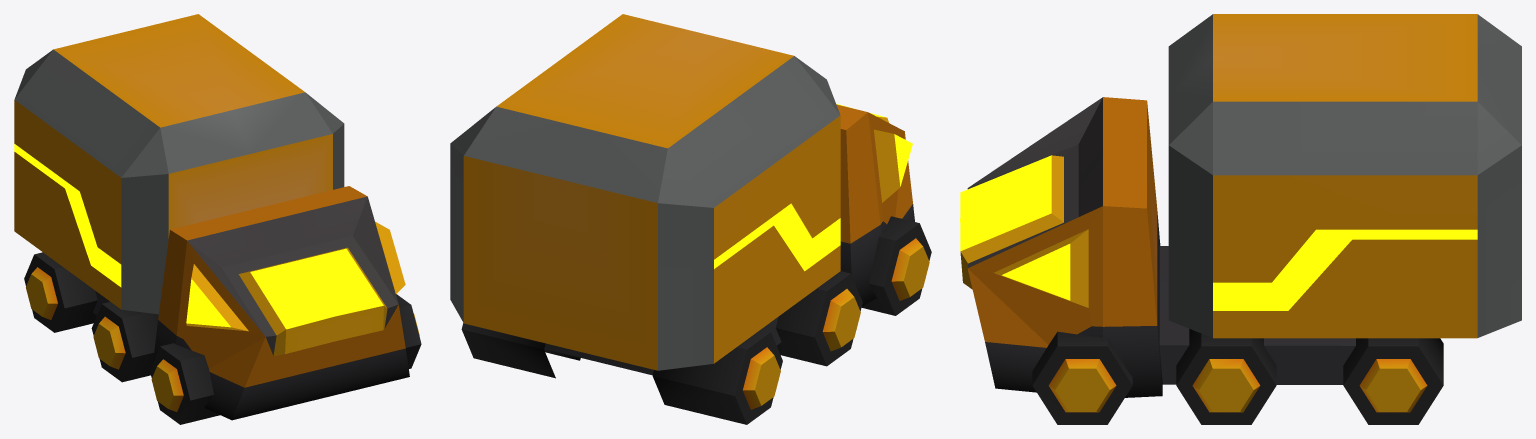
Rendered from lorry-1.glb.
3 views of the same model, side by side, from view 1: azimuth 30°, elevation 25°; view 2: azimuth 150°, elevation 25°; view 3: azimuth 270°, elevation 25° (orthographic). The views are drawn at different scales.
Parts seen in each view (by area): view 1: Cylinder.003, Cylinder; view 2: Cylinder.003, Cylinder; view 3: Cylinder.003, Cylinder.
Boxes of the visible parts, x1,y1,x2,y2 form: Cylinder.003: (14, 14, 344, 314); Cylinder: (24, 186, 421, 424); Cylinder.003: (450, 14, 840, 370); Cylinder: (461, 103, 931, 424); Cylinder.003: (1168, 14, 1521, 338); Cylinder: (960, 97, 1443, 424).
Bounding box in the file's own units: 4.26 × 3.98 × 6.81.
